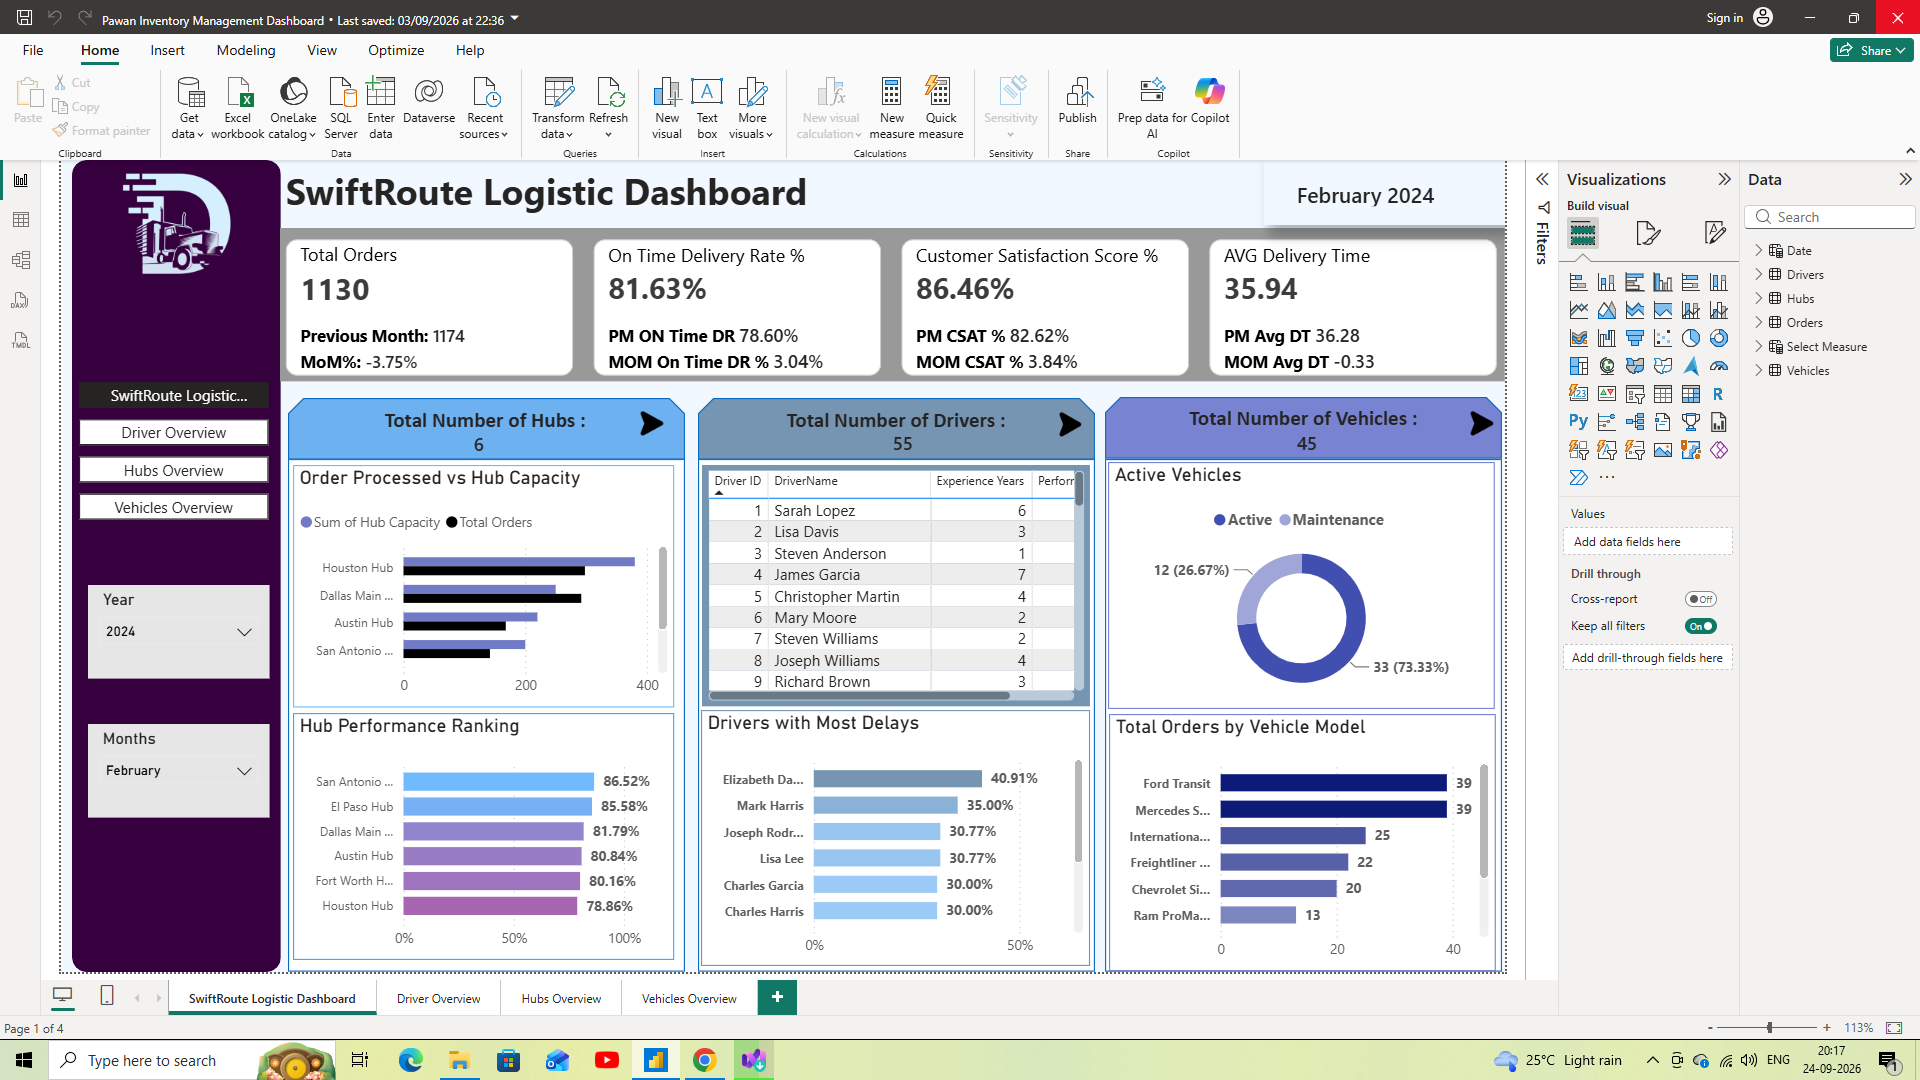

The page's visual inventory and layout, read from the dashboard file:
{"tool":"powerbi","page":{"name":"SwiftRoute Logistic Dashboard","canvas":[1280,720],"ordinal":0},"visuals":[{"type":"shape","box":[9.8,0,185.3,720],"z":0},{"type":"textbox","box":[193.9,0,533.6,60.2],"z":1000},{"type":"cardVisual","fields":{"Data":["Orders.Total Orders","Date.On Time Delivery Rate %","Orders.Customer Satisfaction Score %","Orders.AVG Delivery Time"]},"box":[194.2,60.7,1085.8,136.3],"z":2000},{"type":"slicer","fields":{"Values":["Date.Year"]},"box":[23.5,376.5,161.5,82.7],"z":3000},{"type":"slicer","fields":{"Values":["Date.Months"]},"box":[23.5,499.8,161.5,82.7],"z":4000},{"type":"shape","box":[201.4,265.4,352,454.6],"z":5000},{"type":"shape","box":[201.4,210.8,352,54.6],"z":6000},{"type":"textbox","box":[272.9,213.6,206.1,32.9],"z":7000},{"type":"cardVisual","fields":{"Data":["CountNonNull(Hubs.Hub ID)"]},"box":[336.9,225.9,89.4,49.9],"z":8000},{"type":"clusteredBarChart","title":"Order Processed vs Hub Capacity","fields":{"Category":["Hubs.HubName"],"Y":["Sum(Hubs.Hub Capacity)","Orders.Total Orders"]},"box":[206.1,270.1,337.9,214.6],"z":9000},{"type":"image","box":[6.6,1.9,194.8,116.7],"z":10000},{"type":"barChart","title":"Hub Performance Ranking","fields":{"Category":["Hubs.HubName"],"Y":["Date.On Time Delivery Rate %"]},"box":[206,490.7,337.6,218.5],"z":11000},{"type":"shape","box":[564.7,265.4,352,454.6],"z":12000},{"type":"shape","box":[564.7,210.8,352,54.6],"z":13000},{"type":"shape","box":[926.1,265.4,352,454.6],"z":14000},{"type":"shape","box":[926,210.4,351.9,54.6],"z":15000},{"type":"textbox","box":[637.2,213.6,206.1,32.9],"z":16000},{"type":"cardVisual","fields":{"Data":["CountNonNull(Drivers.DriverID)"]},"box":[708.7,217.4,90.4,64.9],"z":17000},{"type":"tableEx","title":"Experience vs Rating","fields":{"Values":["Orders.Driver ID","Drivers.DriverName","Drivers.Experience Years","Drivers.Performance Rating"]},"box":[568.7,270.4,343.9,214],"z":18000},{"type":"barChart","title":"Drivers with Most Delays","fields":{"Category":["Drivers.DriverName"],"Y":["Orders.Delayed Delivery Rate"]},"box":[567.8,488.1,344.8,227.5],"z":19000},{"type":"textbox","box":[979.8,211.8,243.8,32.9],"z":20000},{"type":"cardVisual","fields":{"Data":["CountNonNull(Vehicles.Vehicle ID)"]},"box":[1066.4,217.4,90.4,64.9],"z":21000},{"type":"donutChart","title":"Active Vehicles","fields":{"Category":["Vehicles.Vehicle Status"],"Y":["CountNonNull(Vehicles.Vehicle ID)"]},"box":[928.7,267.8,343,218.5],"z":22000},{"type":"barChart","fields":{"Y":["Orders.Total Orders"],"Category":["Vehicles.Vehicle Model"]},"box":[928.9,491.3,342.6,227.8],"z":23000},{"type":"cardVisual","fields":{"Data":["Date.Year Month Title"]},"box":[1066.4,0,213.6,58.4],"z":24000},{"type":"image","box":[883.8,223.1,21.6,22.6],"z":25000},{"type":"image","box":[512.2,223,23.3,22.4],"z":26000},{"type":"pageNavigator","box":[16.1,197,168.4,123.6],"z":27000},{"type":"image","box":[1248.4,223,23.3,22.4],"z":28000}]}

Visuals, with their boxes on the page's 1280x720 design canvas (x1, y1, x2, y2). These are canvas units, not pixel positions in the 1920x1080 screenshot, which may show the page scaled, cropped or inside an application window:
shape: {"left": 10, "top": 0, "right": 195, "bottom": 720}
textbox: {"left": 194, "top": 0, "right": 728, "bottom": 60}
cardVisual - Orders.Total Orders x Date.On Time Delivery Rate %: {"left": 194, "top": 61, "right": 1280, "bottom": 197}
slicer - Date.Year: {"left": 24, "top": 376, "right": 185, "bottom": 459}
slicer - Date.Months: {"left": 24, "top": 500, "right": 185, "bottom": 582}
shape: {"left": 201, "top": 265, "right": 553, "bottom": 720}
shape: {"left": 201, "top": 211, "right": 553, "bottom": 265}
textbox: {"left": 273, "top": 214, "right": 479, "bottom": 246}
cardVisual - CountNonNull(Hubs.Hub ID): {"left": 337, "top": 226, "right": 426, "bottom": 276}
"Order Processed vs Hub Capacity" clusteredBarChart: {"left": 206, "top": 270, "right": 544, "bottom": 485}
image: {"left": 7, "top": 2, "right": 201, "bottom": 119}
"Hub Performance Ranking" barChart: {"left": 206, "top": 491, "right": 544, "bottom": 709}
shape: {"left": 565, "top": 265, "right": 917, "bottom": 720}
shape: {"left": 565, "top": 211, "right": 917, "bottom": 265}
shape: {"left": 926, "top": 265, "right": 1278, "bottom": 720}
shape: {"left": 926, "top": 210, "right": 1278, "bottom": 265}
textbox: {"left": 637, "top": 214, "right": 843, "bottom": 246}
cardVisual - CountNonNull(Drivers.DriverID): {"left": 709, "top": 217, "right": 799, "bottom": 282}
"Experience vs Rating" tableEx: {"left": 569, "top": 270, "right": 913, "bottom": 484}
"Drivers with Most Delays" barChart: {"left": 568, "top": 488, "right": 913, "bottom": 716}
textbox: {"left": 980, "top": 212, "right": 1224, "bottom": 245}
cardVisual - CountNonNull(Vehicles.Vehicle ID): {"left": 1066, "top": 217, "right": 1157, "bottom": 282}
"Active Vehicles" donutChart: {"left": 929, "top": 268, "right": 1272, "bottom": 486}
barChart - Orders.Total Orders x Vehicles.Vehicle Model: {"left": 929, "top": 491, "right": 1272, "bottom": 719}
cardVisual - Date.Year Month Title: {"left": 1066, "top": 0, "right": 1280, "bottom": 58}
image: {"left": 884, "top": 223, "right": 905, "bottom": 246}
image: {"left": 512, "top": 223, "right": 536, "bottom": 245}
pageNavigator: {"left": 16, "top": 197, "right": 184, "bottom": 321}
image: {"left": 1248, "top": 223, "right": 1272, "bottom": 245}
